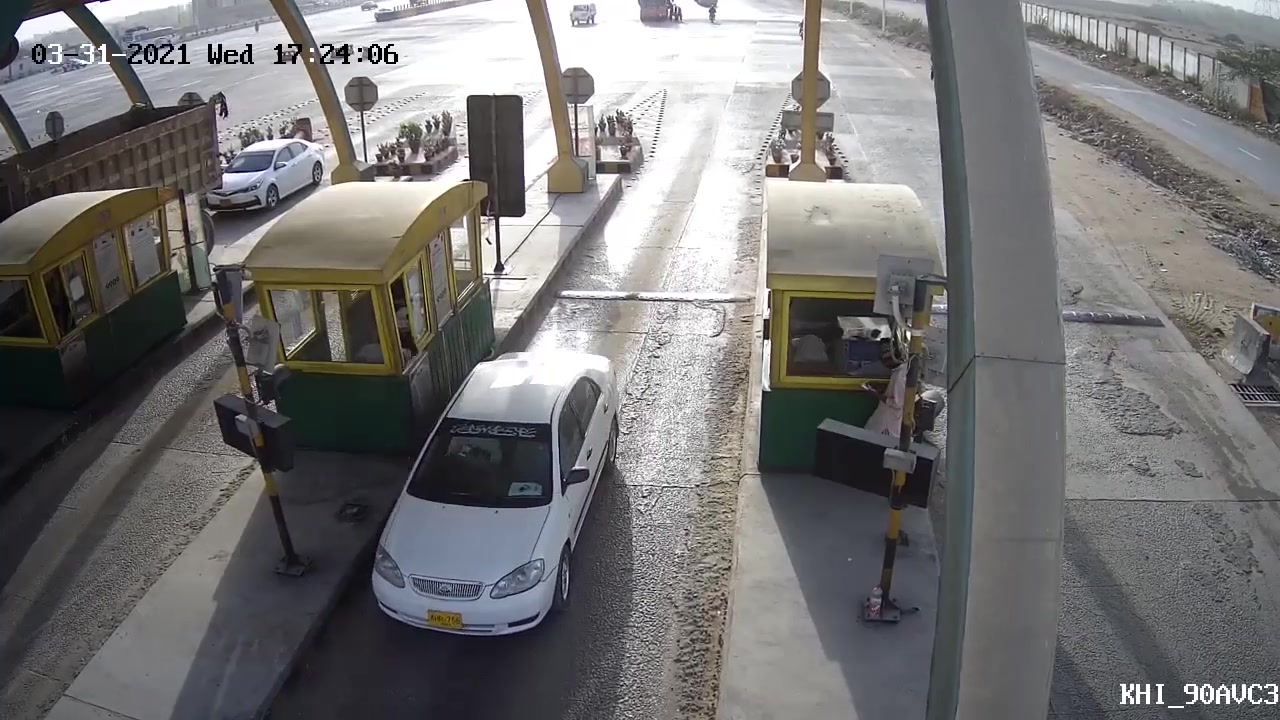F1: (364, 347, 629, 648)
